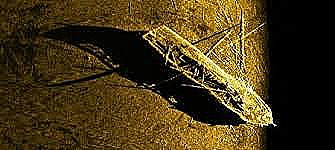ship: (140, 7, 278, 129)
